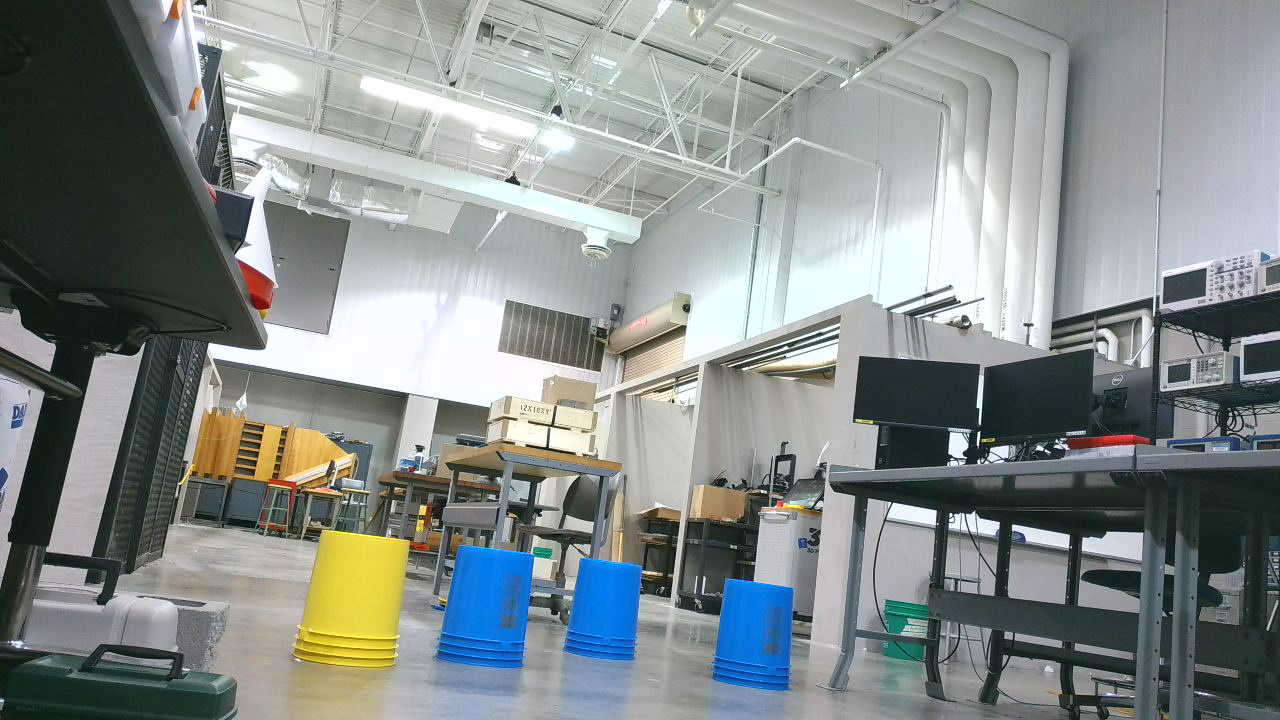blue_bucket: (434, 542, 542, 679), (716, 575, 807, 704), (566, 557, 655, 668)
yellow_bucket: (293, 529, 418, 676)
